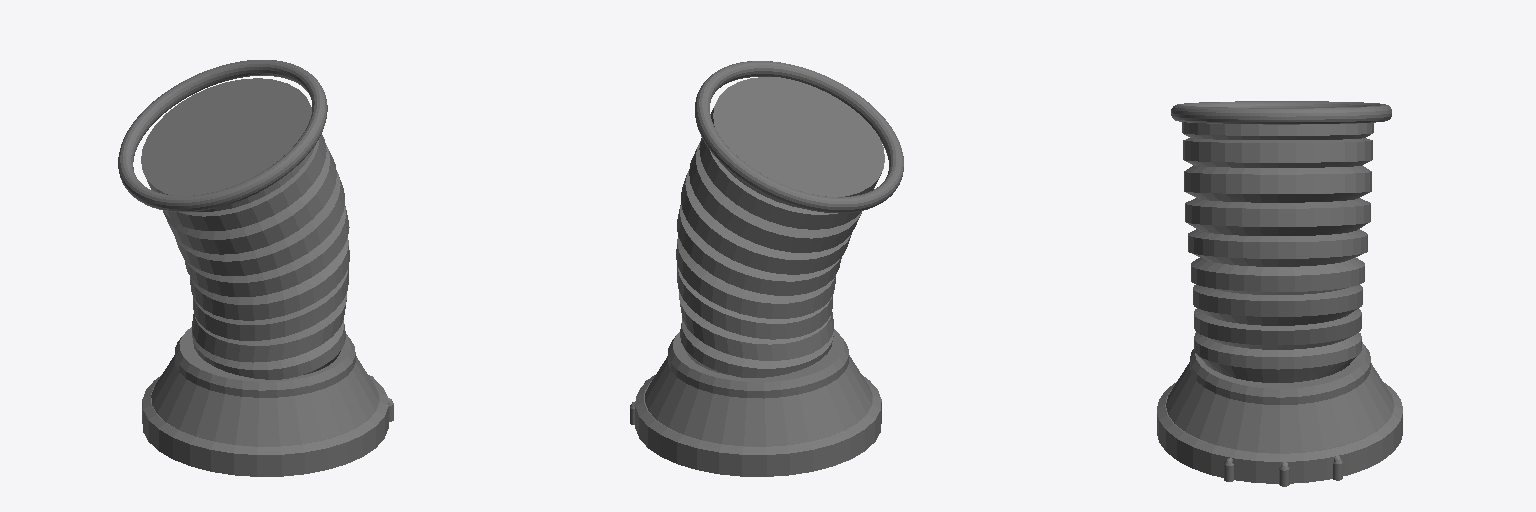
Rendered from PataDerTrasGoddard_obj.obj.
3 views of the same model, side by side, from view 1: azimuth 30°, elevation 25°; view 2: azimuth 150°, elevation 25°; view 3: azimuth 270°, elevation 25° (orthographic).
Parts seen in each view (by area): view 1: C_rculo_007_C_rculo_008, C_rculo_015_C_rculo_016, C_rculo_014_C_rculo_015, C_rculo_004, C_rculo_016_C_rculo_017; view 2: C_rculo_007_C_rculo_008, C_rculo_015_C_rculo_016, C_rculo_014_C_rculo_015, C_rculo_004, C_rculo_016_C_rculo_017; view 3: C_rculo_007_C_rculo_008, C_rculo_015_C_rculo_016, C_rculo_014_C_rculo_015, C_rculo_004, C_rculo_016_C_rculo_017, Cilindro_001_Cilindro_006.
Boxes of the visible parts, x1=… form: C_rculo_007_C_rculo_008: x1=141, y1=78, x2=349, y2=379; C_rculo_015_C_rculo_016: x1=151, y1=355, x2=378, y2=446; C_rculo_014_C_rculo_015: x1=142, y1=375, x2=388, y2=476; C_rculo_004: x1=118, y1=60, x2=327, y2=211; C_rculo_016_C_rculo_017: x1=175, y1=327, x2=355, y2=397; C_rculo_007_C_rculo_008: x1=676, y1=77, x2=884, y2=377; C_rculo_015_C_rculo_016: x1=645, y1=355, x2=872, y2=446; C_rculo_014_C_rculo_015: x1=635, y1=375, x2=881, y2=476; C_rculo_004: x1=695, y1=61, x2=903, y2=212; C_rculo_016_C_rculo_017: x1=668, y1=329, x2=848, y2=398; C_rculo_007_C_rculo_008: x1=1182, y1=122, x2=1373, y2=382; C_rculo_015_C_rculo_016: x1=1166, y1=362, x2=1393, y2=452; C_rculo_014_C_rculo_015: x1=1157, y1=382, x2=1402, y2=483; C_rculo_004: x1=1171, y1=101, x2=1391, y2=124; C_rculo_016_C_rculo_017: x1=1190, y1=342, x2=1370, y2=404; Cilindro_001_Cilindro_006: x1=1224, y1=456, x2=1342, y2=486.
Bounding box in the file's own units: 1.17 × 1.58 × 1.03.